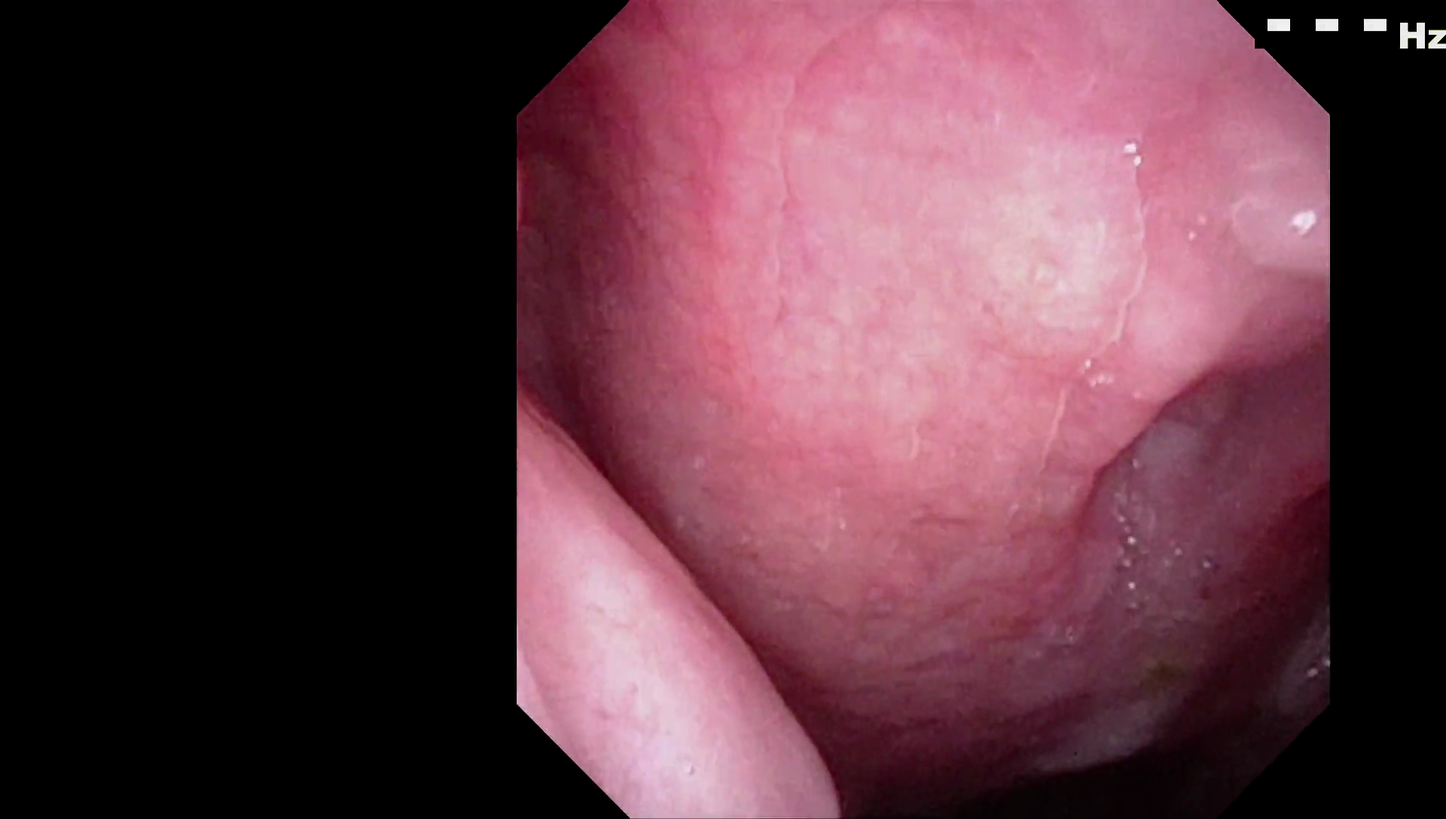close_wall: (697, 59, 1260, 501), (536, 394, 928, 799)
next: (789, 684, 1285, 819)
